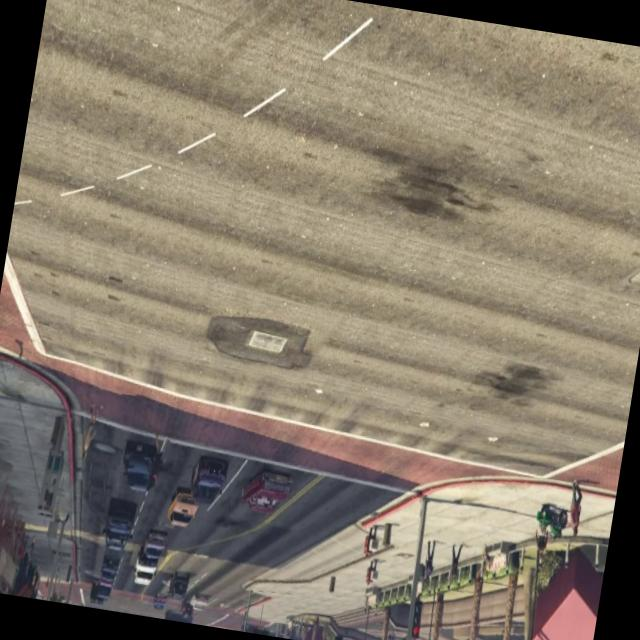Red-Signal: (402, 579, 438, 640), (242, 608, 280, 636), (322, 613, 358, 640)
